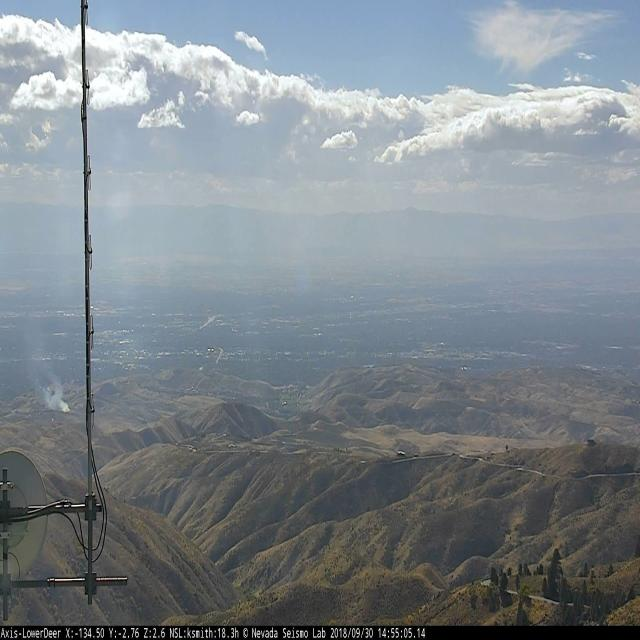smoke: (27, 336, 72, 414)
